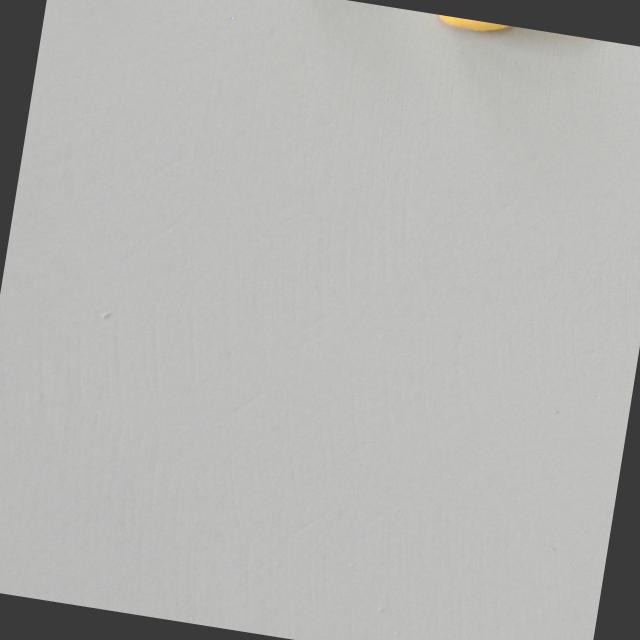dañado: (418, 12, 533, 50)
